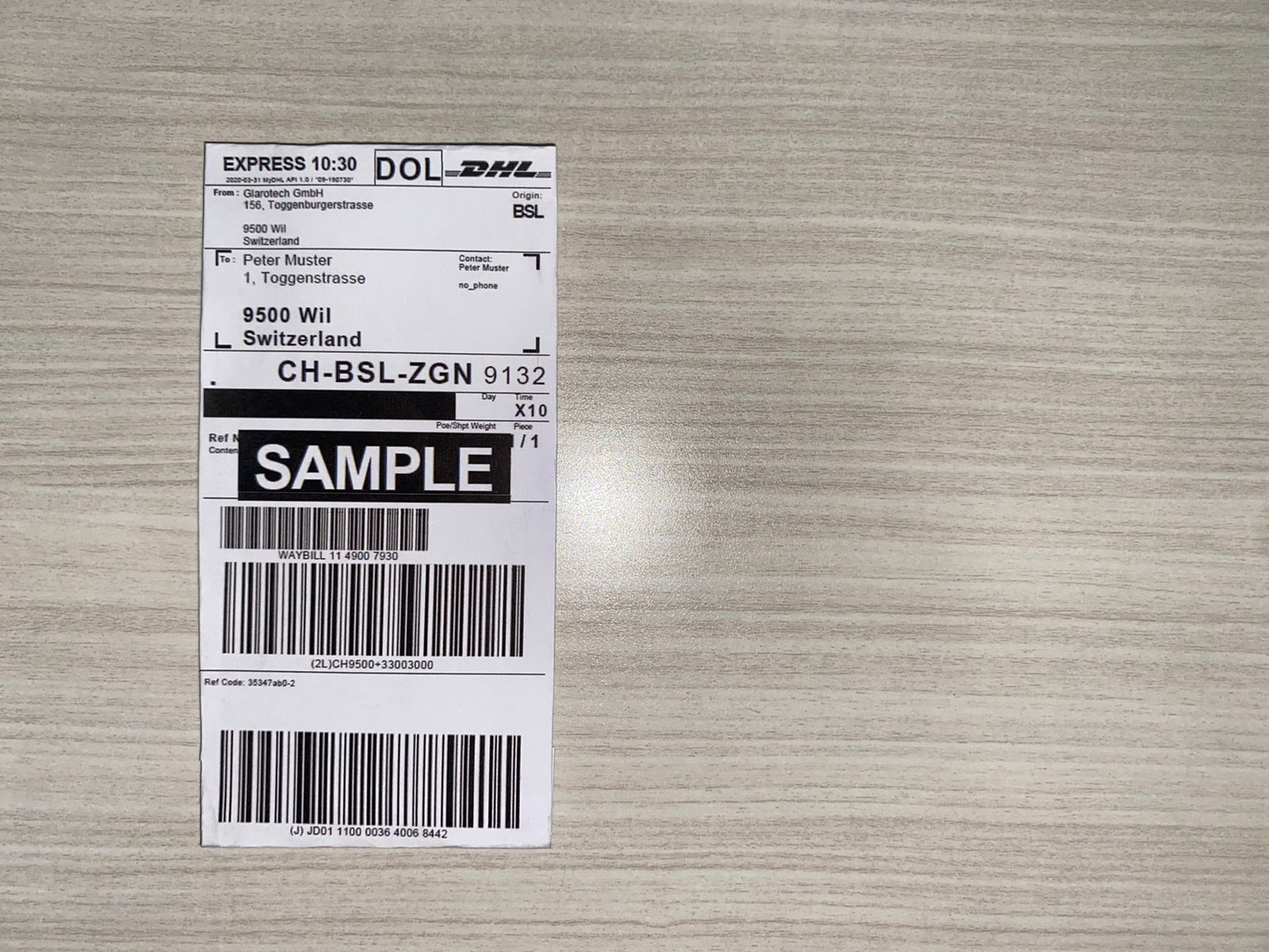waybill_text: (277, 550, 401, 563)
